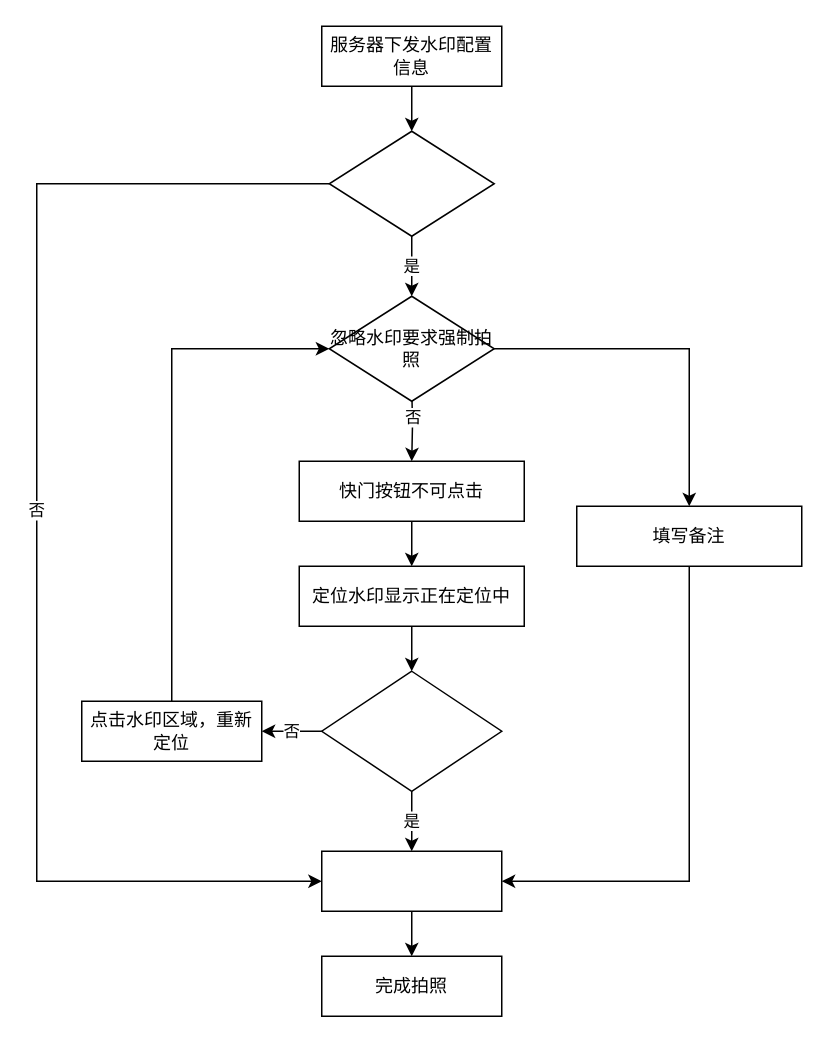
Image size: 828x1043. Some labels were removed from this diagram. Here are the shapes that lost their labels. From the top down, the centre of each, then its label:
point (411, 183): 定位水印必填
point (411, 730): 定位成功
point (411, 880): 快门按钮可点击
